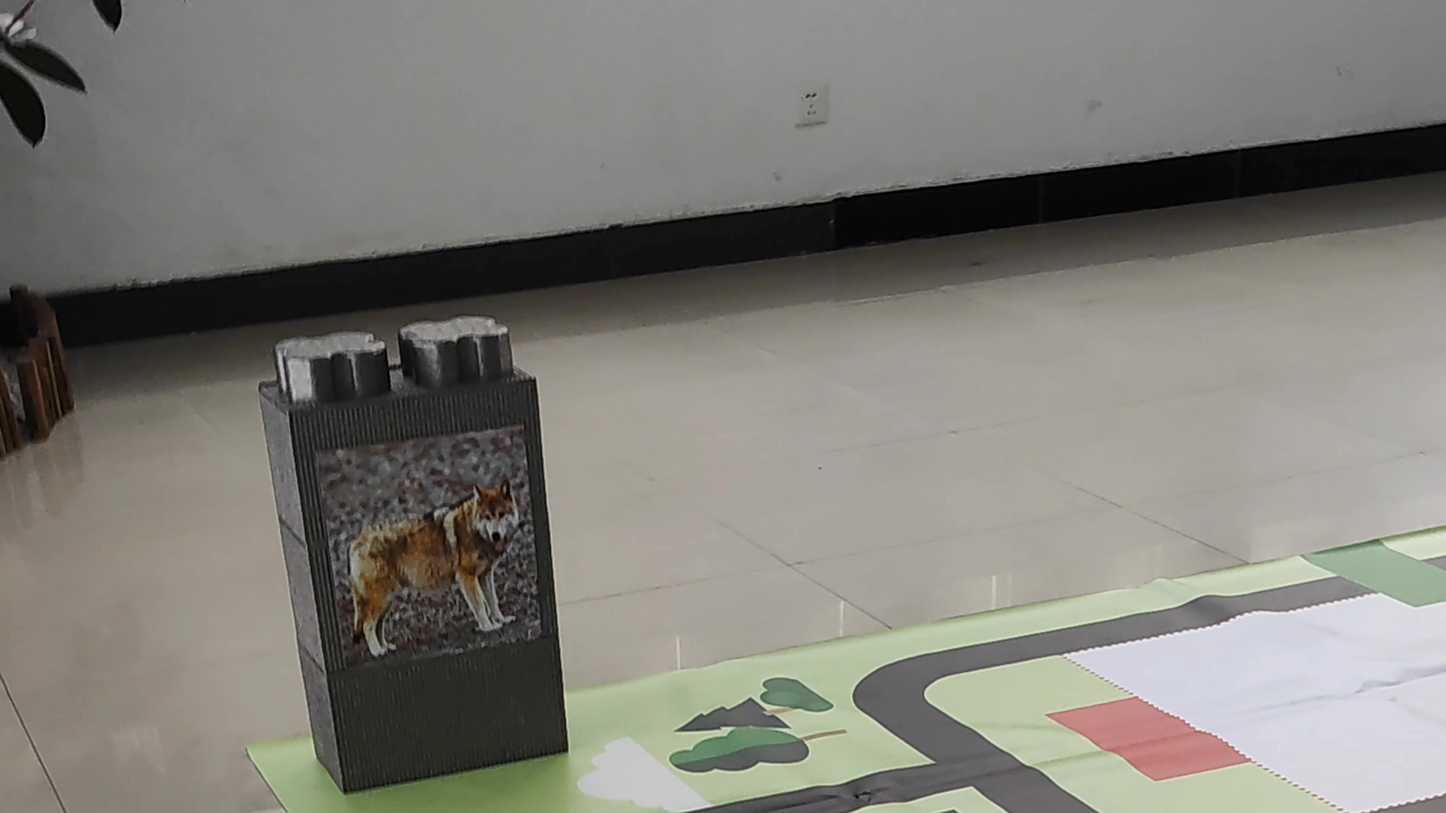wolf: (333, 446, 528, 668)
